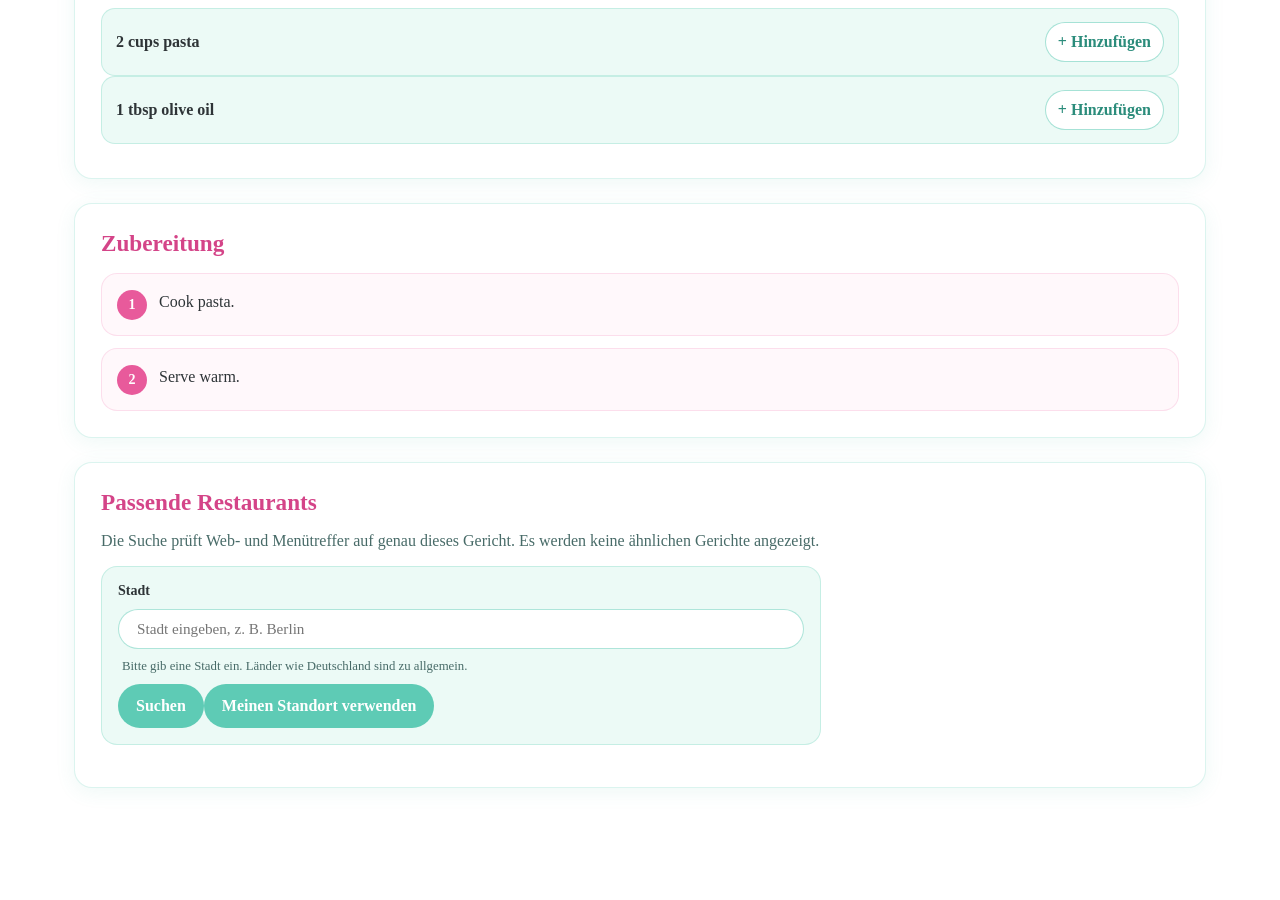
Test: RecipeDetailView › shows error message when restaurant search fails
The image size is (1280, 900).
(page scrolled)
Step 1. Type "Berlin" into the field with class "location-input" → (461, 628), box [118,608,804,648]
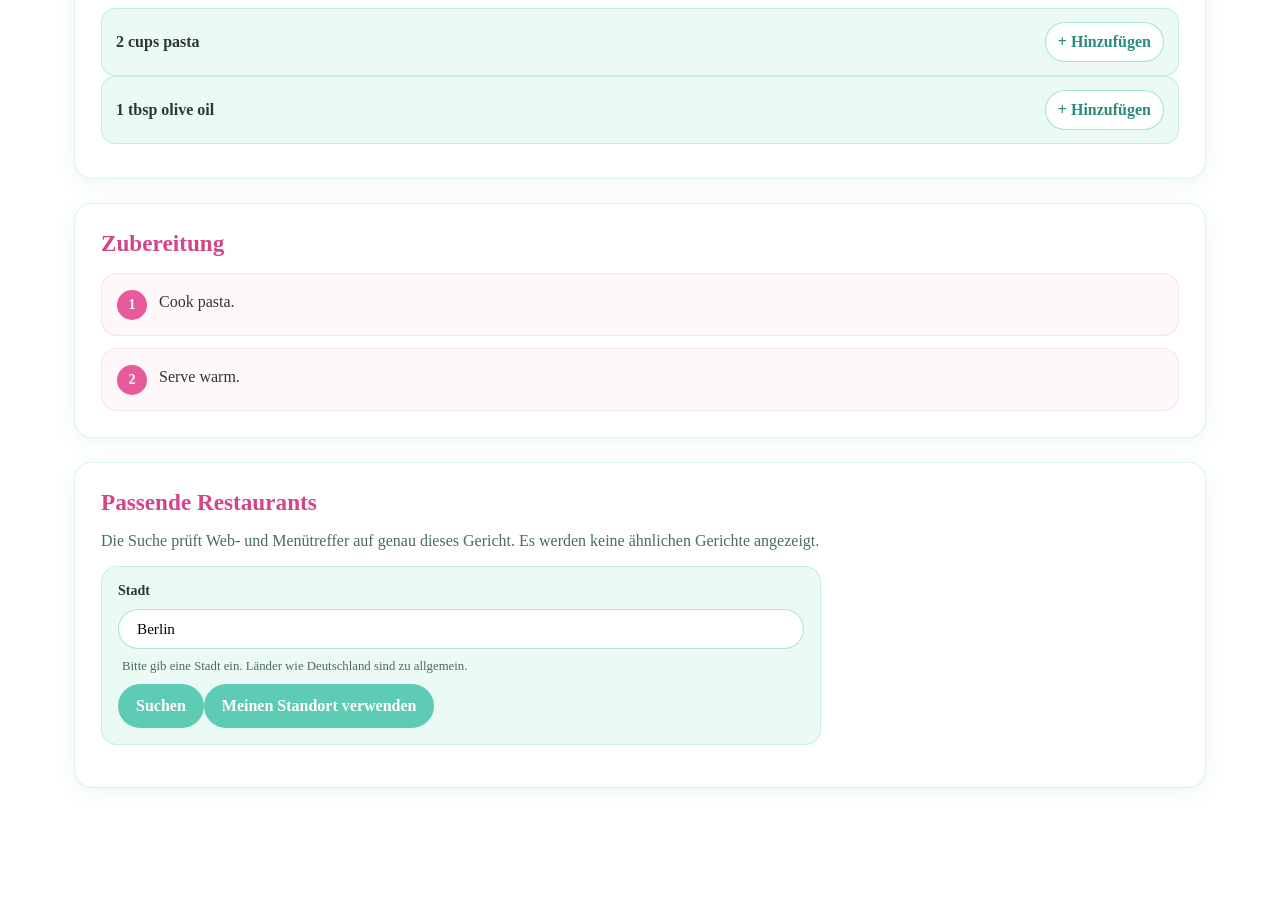
Step 2. Click the button with class "restaurant-search-button" → click(161, 706), box [118,684,204,728]
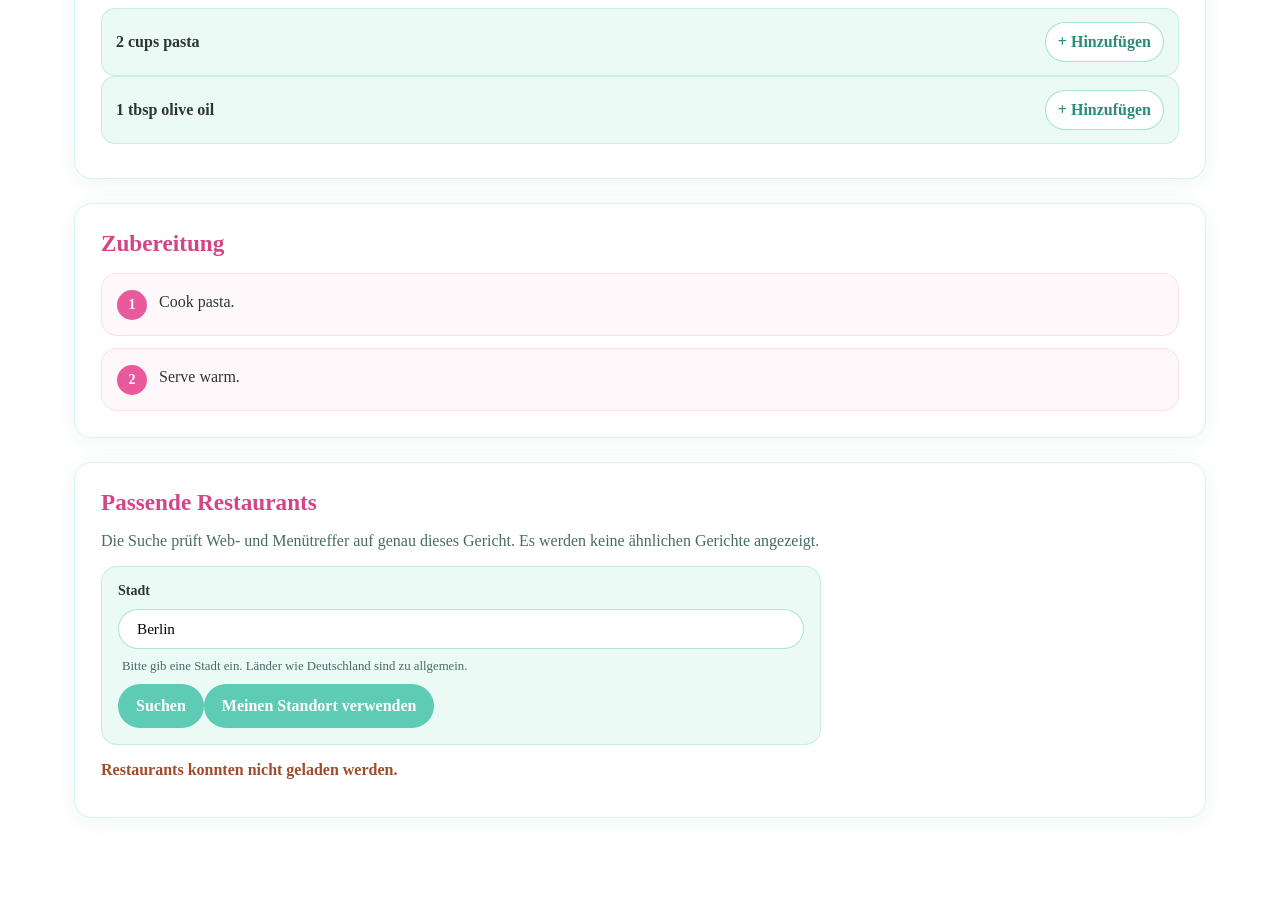
Result: the text "Restaurants konnten nicht geladen werden." is shown at [101,760,398,778]
